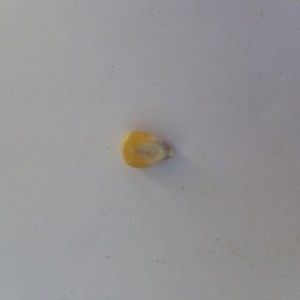maiz: (118, 125, 179, 172)
